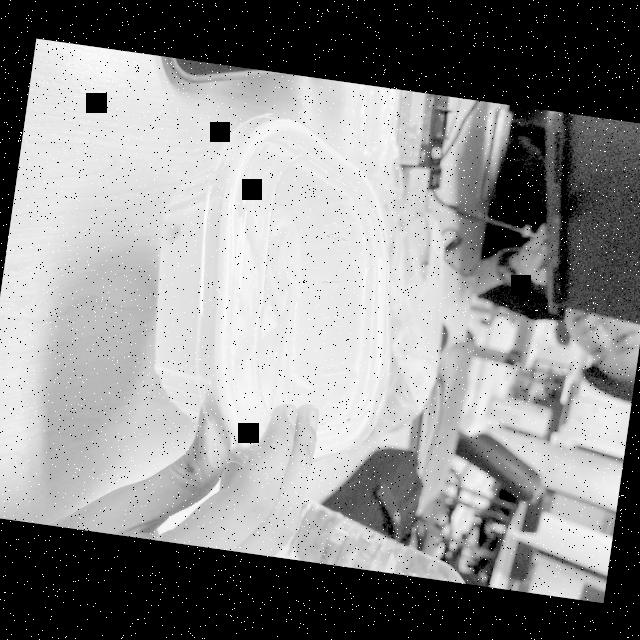plastic_box: (122, 92, 432, 480)
